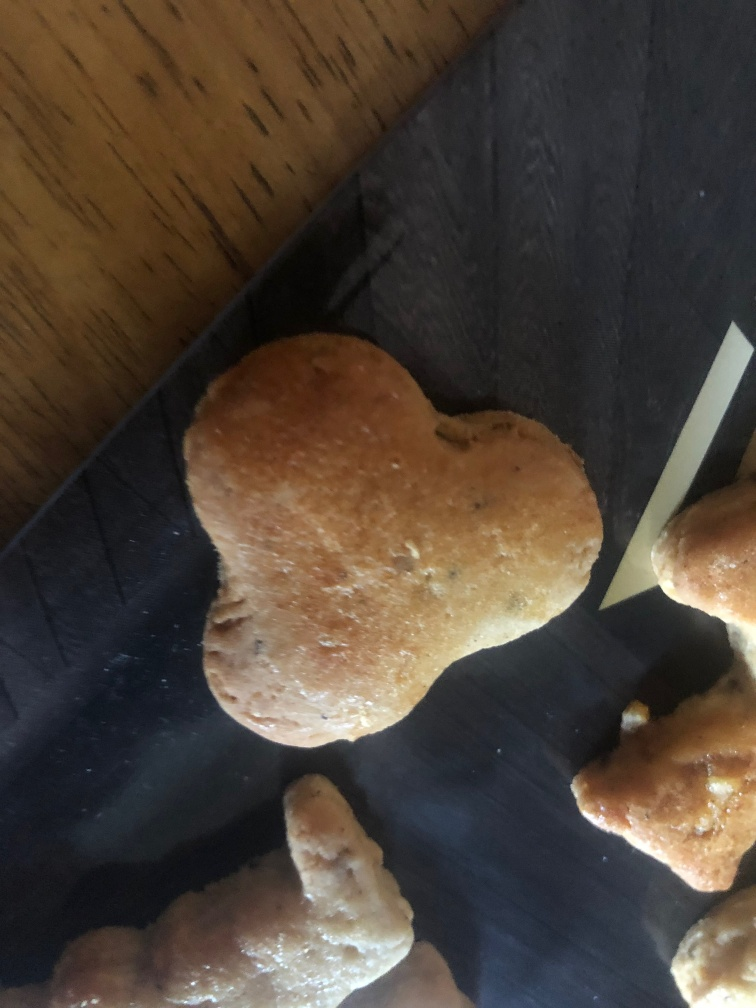flake: (185, 322, 602, 749)
